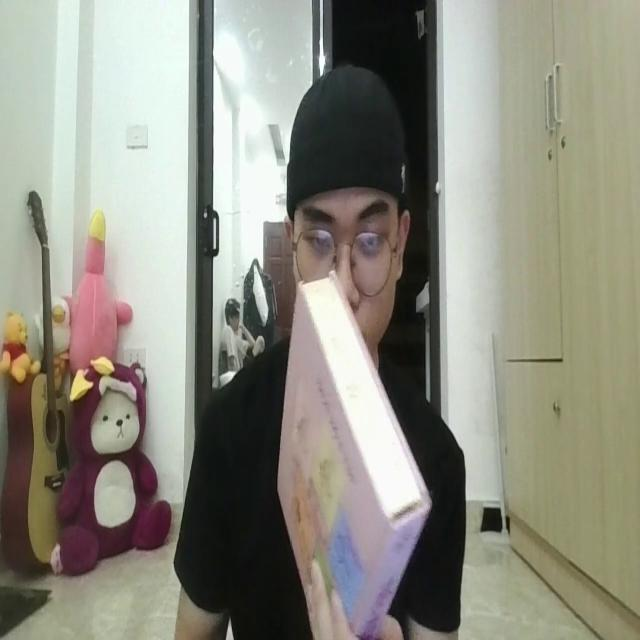book: (263, 261, 432, 640)
student: (166, 58, 467, 640)
